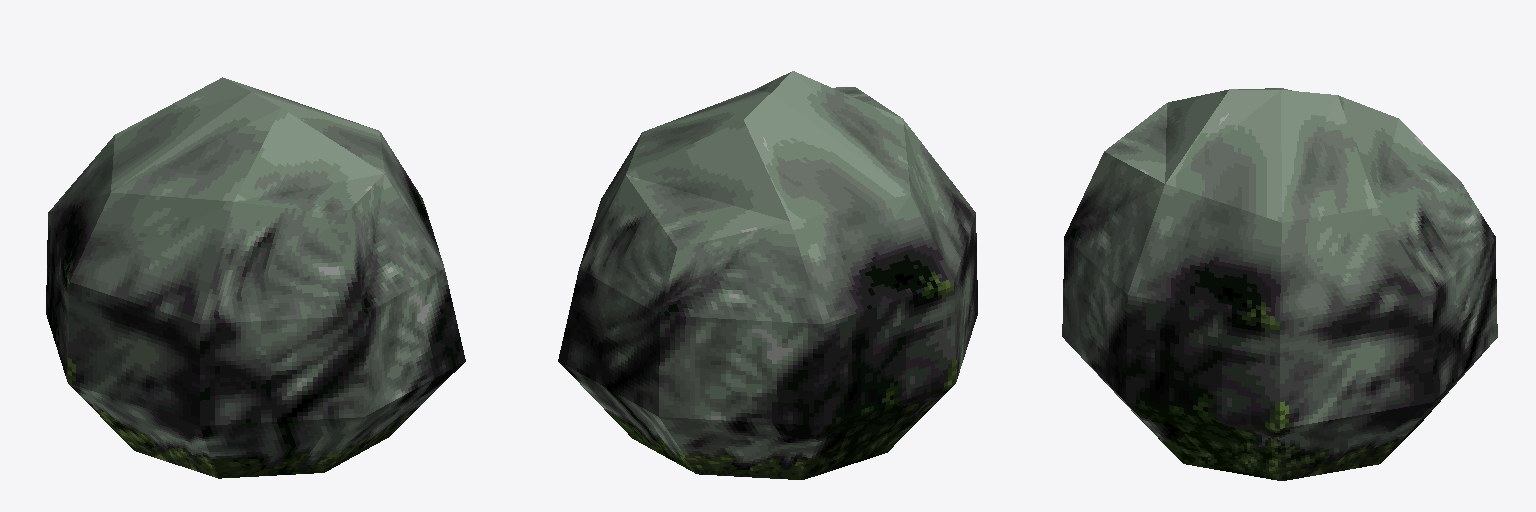
The picture shows the model from 3 angles: view 1: azimuth 30°, elevation 25°; view 2: azimuth 150°, elevation 25°; view 3: azimuth 270°, elevation 25°; orthographic projection.
Parts seen in each view (by area): view 1: T1L2M008_25; view 2: T1L2M008_25; view 3: T1L2M008_25.
Part boxes in pixels (bbox=[...]): T1L2M008_25: bbox=[46, 77, 465, 478]; T1L2M008_25: bbox=[558, 71, 977, 479]; T1L2M008_25: bbox=[1062, 88, 1497, 480].
Size of the model in its own units: 2.08 by 1.76 by 2.08.
Materials: 1 (1 with a texture image).